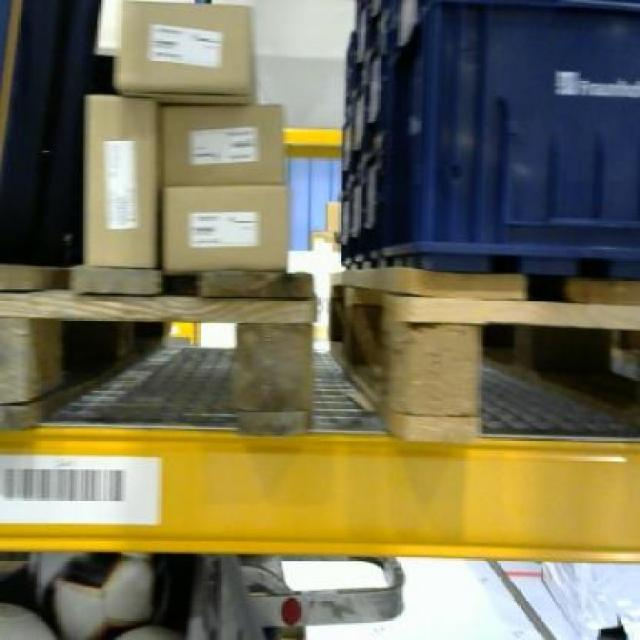box: (86, 90, 160, 268), (115, 0, 243, 91), (162, 185, 287, 272), (162, 105, 284, 183)
